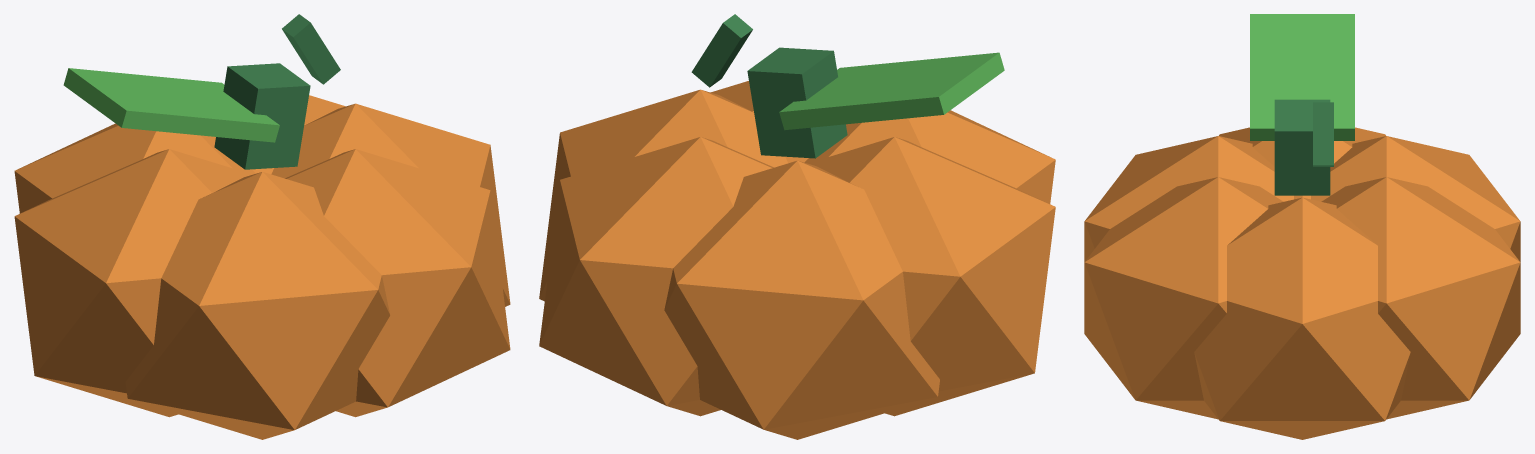
File: CatCafe_Harvest_Pumpkin.glb
3 renders of one model, left to right at view 1: azimuth 30°, elevation 25°; view 2: azimuth 150°, elevation 25°; view 3: azimuth 270°, elevation 25°, orthographic. The views are drawn at different scales.
Parts seen in each view (by area): view 1: CatCafe_Harvest_Pumpkin; view 2: CatCafe_Harvest_Pumpkin; view 3: CatCafe_Harvest_Pumpkin.
Part boxes in pixels (bbox=[...]): CatCafe_Harvest_Pumpkin: bbox=[14, 14, 510, 439]; CatCafe_Harvest_Pumpkin: bbox=[539, 14, 1055, 439]; CatCafe_Harvest_Pumpkin: bbox=[1084, 14, 1520, 439].
Bounding box in the file's own units: 2.26 × 1.68 × 2.07.
1 material, 1 textured.
